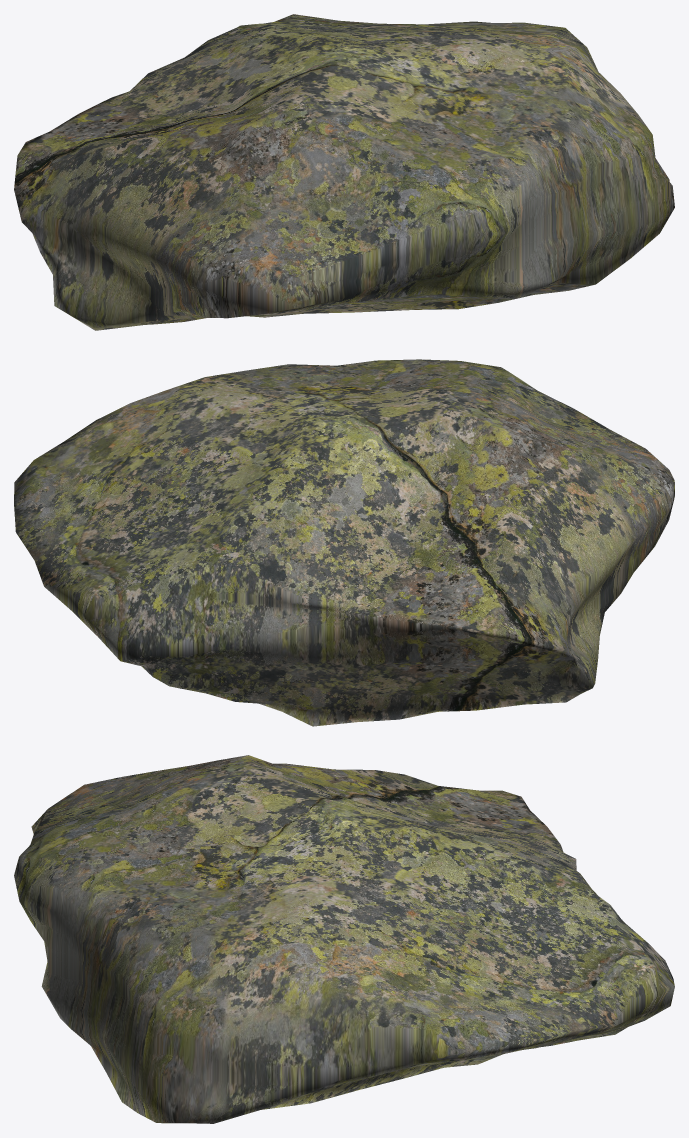
The model's file is boulder_d_lod0.gltf.
The picture shows the model from 3 angles, top to bottom: view 1: azimuth 30°, elevation 25°; view 2: azimuth 150°, elevation 25°; view 3: azimuth 270°, elevation 25°; orthographic projection. The views are drawn at different scales.
Visible parts, largest first — view 1: boulder_d_LOD0; view 2: boulder_d_LOD0; view 3: boulder_d_LOD0.
Boxes of the visible parts, bbox=[...] form: boulder_d_LOD0: bbox=[14, 14, 674, 330]; boulder_d_LOD0: bbox=[14, 359, 674, 726]; boulder_d_LOD0: bbox=[14, 755, 674, 1123].
Bounding box in the file's own units: 1.88 × 0.8307 × 1.82.
1 material, 1 textured.
